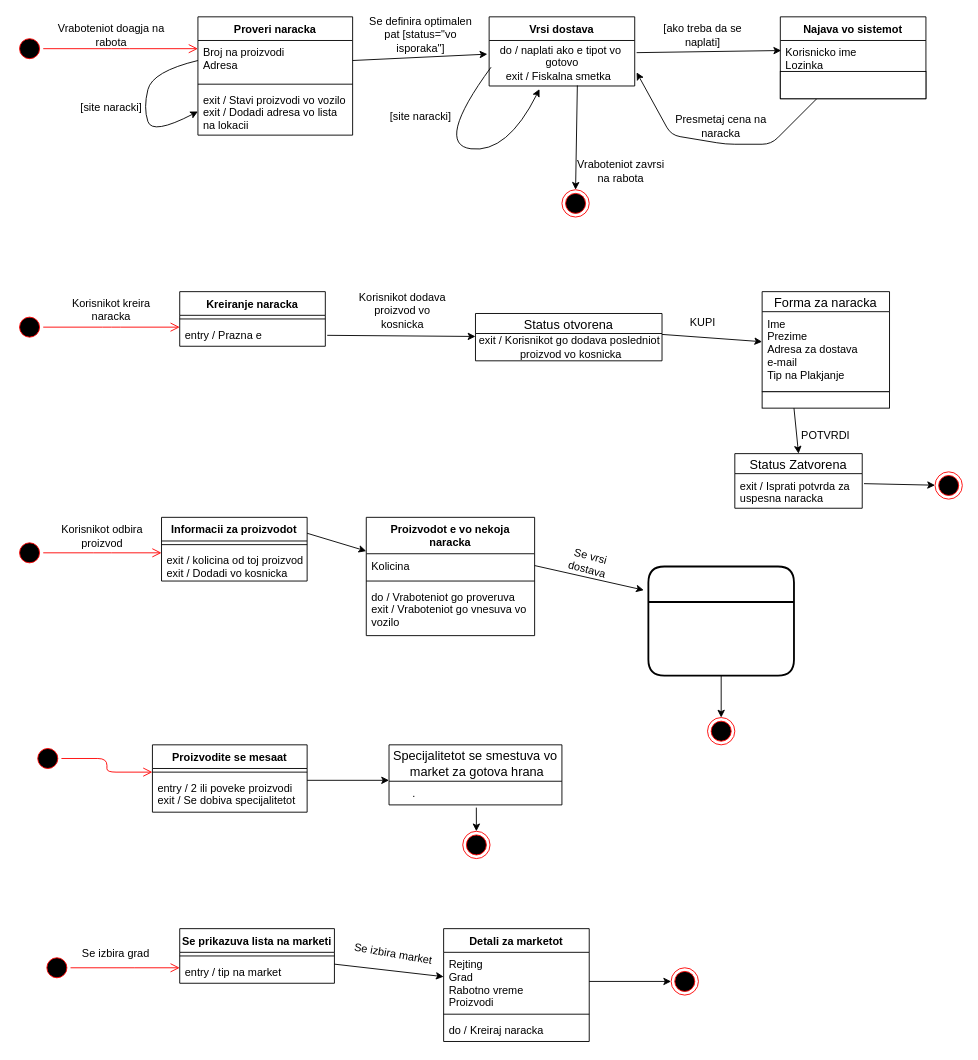
Some shapes in this 978 by 1060 pixel diagram are drawn without their labels. Here are the shapes that lost their labels. From the top down, the centre of each, then its label:
At point 852,85: "do / Vnesi kod na naracka do / Proveri dali ima popust".
At point 825,399: "do / Vnesuvanje podatoci".
At point 720,620: "Korisnikot go dobiva proizvodot".
